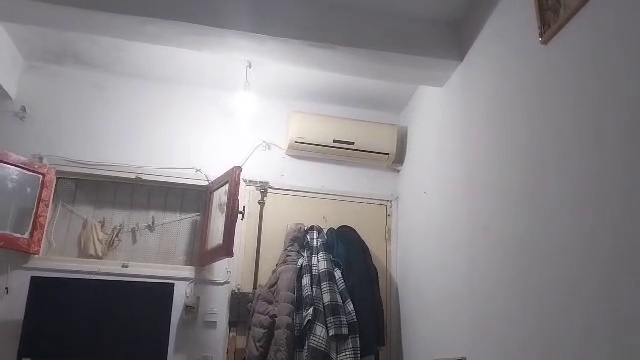air_conditioner: (280, 103, 416, 172)
